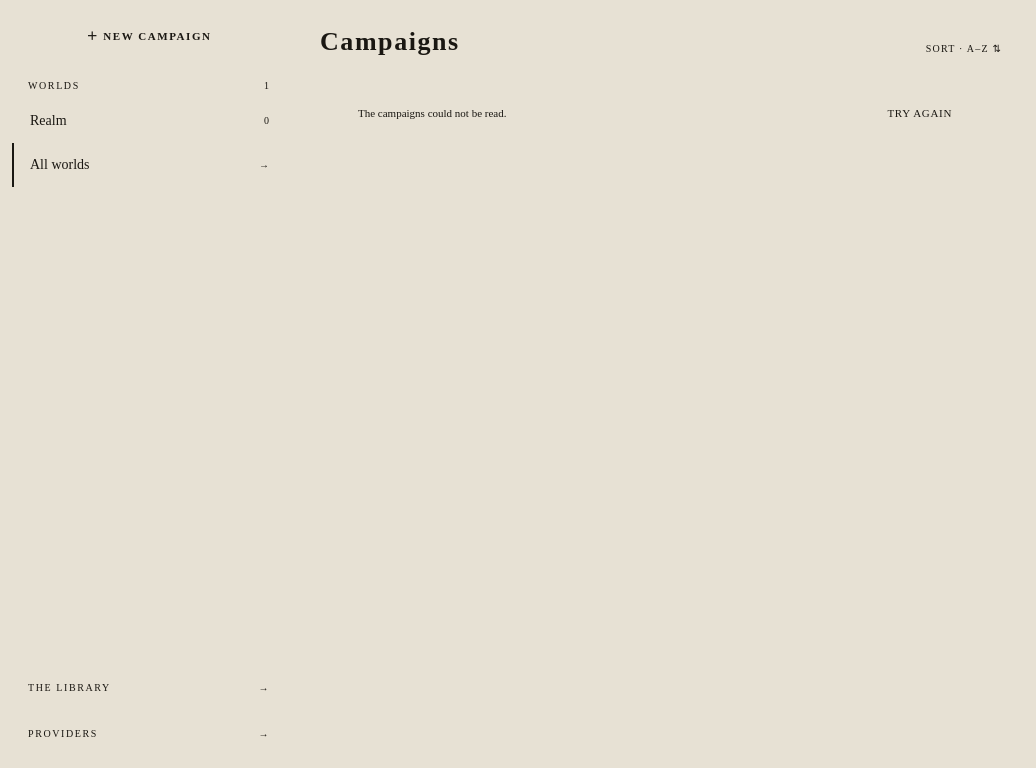
Test case: a failed campaigns read drops the remembered shelf, shows its banner, and Try again re-reads
This screenshot has width=1036, height=768.
Expected: the text "The campaigns could not be read. Try again" is shown, x1=358 y1=101 x2=964 y2=125
Expected: the text "Saltmarch" is not shown
Click the button "Try again".
click(920, 113)  # box x1=876 y1=101 x2=964 y2=125
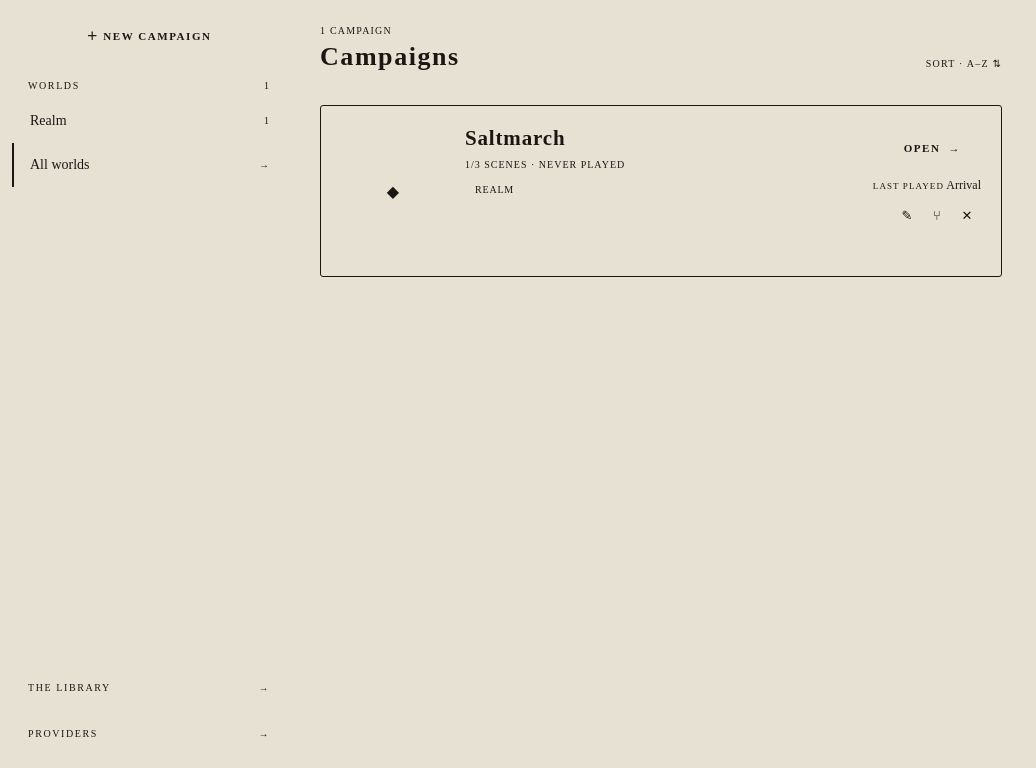
Expected: the link "Saltmarch" is shown, x1=465 y1=126 x2=566 y2=150
